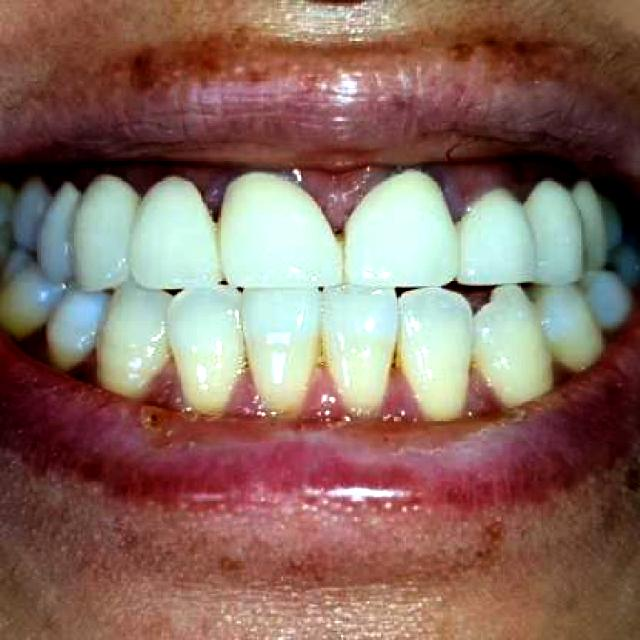Plaque: (168, 163, 546, 231), (295, 360, 344, 418), (376, 365, 424, 422), (142, 357, 185, 417), (463, 365, 507, 418), (224, 365, 266, 416), (67, 348, 98, 387), (550, 354, 576, 389)
